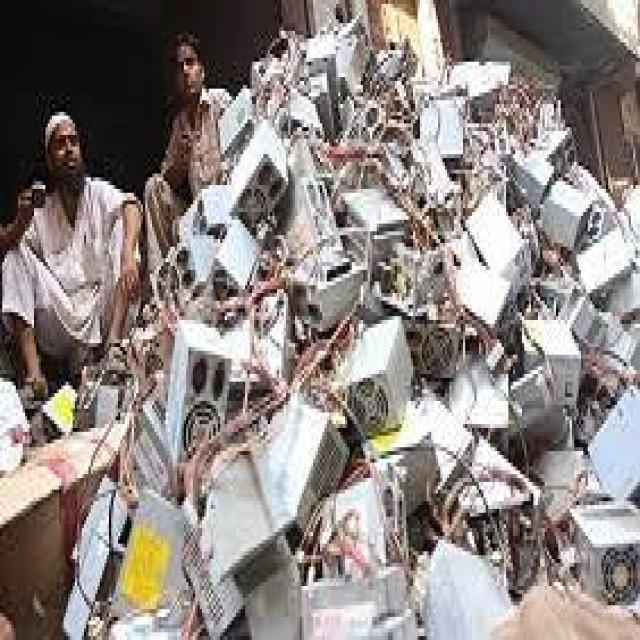Hazard: (77, 3, 640, 637)
